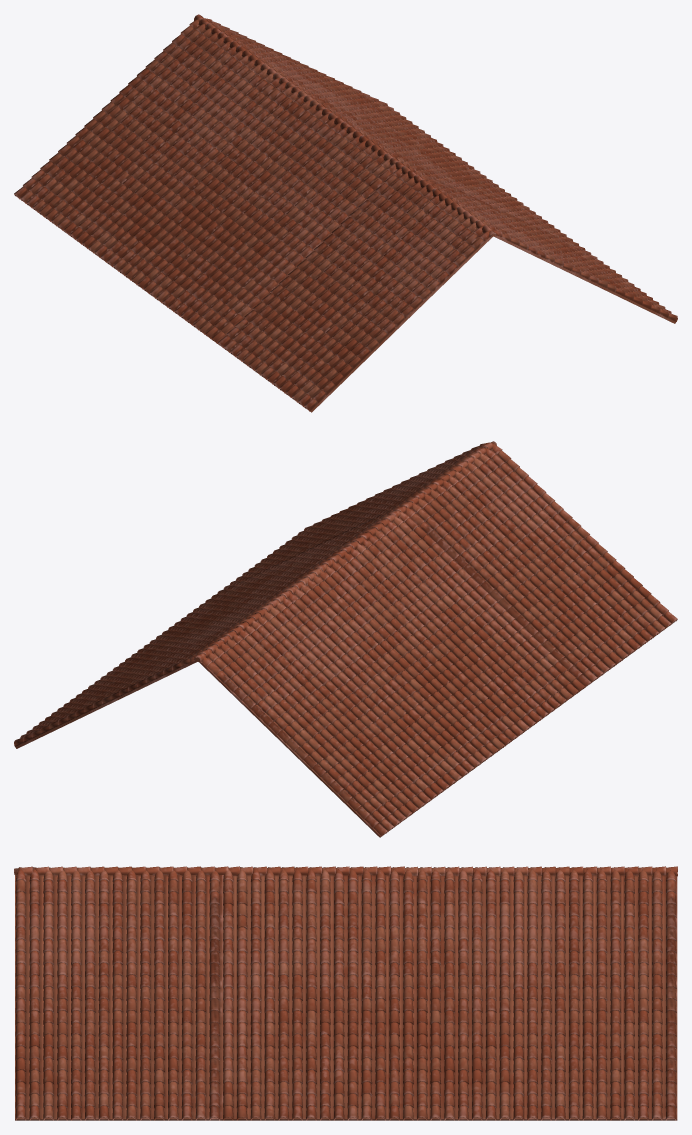
The model's file is SM_Roof_C_Double.fbx.
The picture shows the model from 3 angles, top to bottom: view 1: azimuth 30°, elevation 25°; view 2: azimuth 150°, elevation 25°; view 3: azimuth 270°, elevation 25°; orthographic projection. The views are drawn at different scales.
Parts seen in each view (by area): view 1: SM_Roof_C_Double_LOD0; view 2: SM_Roof_C_Double_LOD0; view 3: SM_Roof_C_Double_LOD0.
Part boxes in pixels (box(x1,y1,x2,y2)): SM_Roof_C_Double_LOD0: box(14, 14, 677, 412); SM_Roof_C_Double_LOD0: box(14, 441, 677, 837); SM_Roof_C_Double_LOD0: box(14, 866, 677, 1120).
Bounding box in the file's own units: 1402 × 1931 × 495.
1 material, 1 textured.
